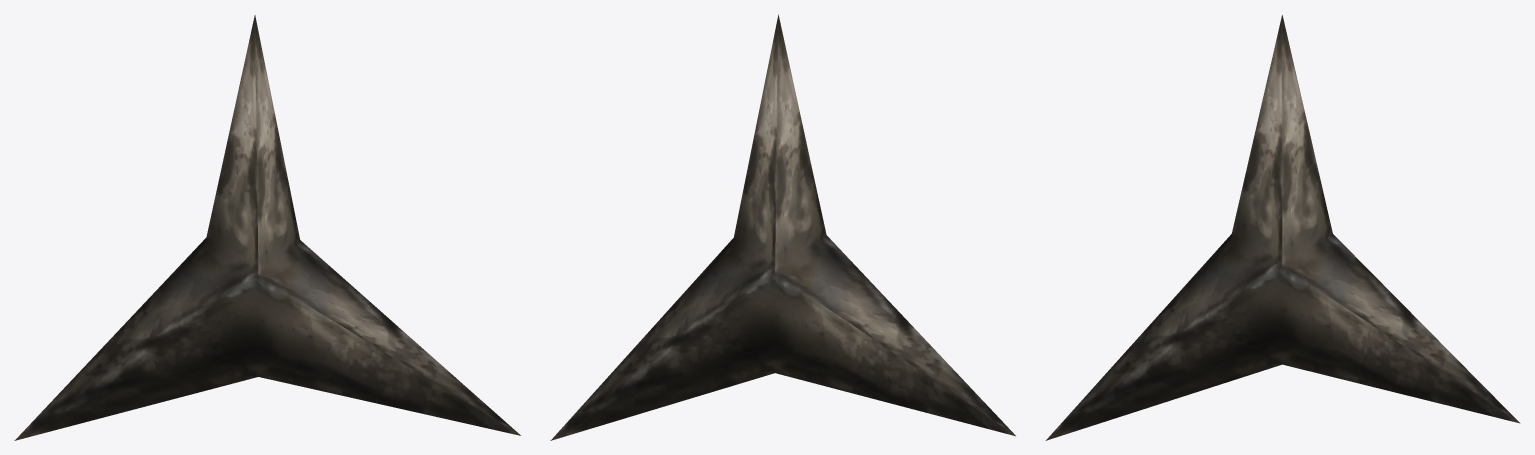
The model's file is WP_Caltrop.FBX.
3 views of the same model, side by side, from view 1: azimuth 30°, elevation 25°; view 2: azimuth 150°, elevation 25°; view 3: azimuth 270°, elevation 25° (orthographic). The views are drawn at different scales.
Parts seen in each view (by area): view 1: WP_Caltrop; view 2: WP_Caltrop; view 3: WP_Caltrop.
Boxes of the visible parts, x1=… form: WP_Caltrop: x1=14, y1=15, x2=520, y2=440; WP_Caltrop: x1=550, y1=14, x2=1015, y2=440; WP_Caltrop: x1=1045, y1=15, x2=1520, y2=440.
Bounding box in the file's own units: 15.85 × 14.46 × 17.39.
